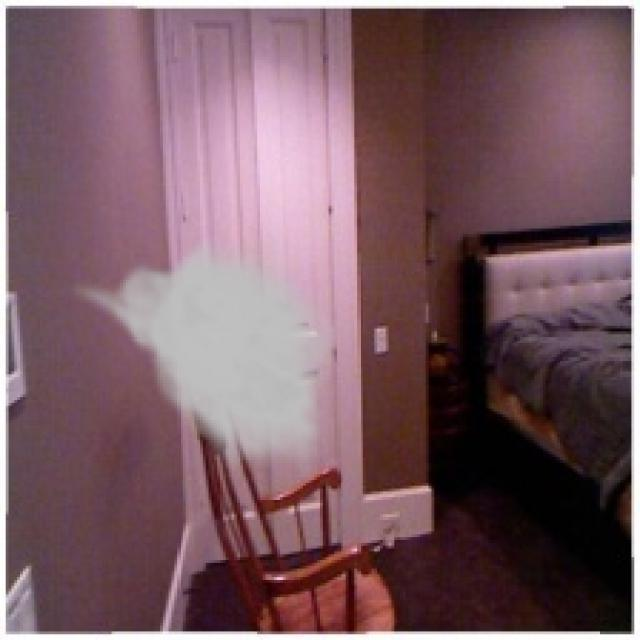Smoke: (66, 235, 340, 480)
